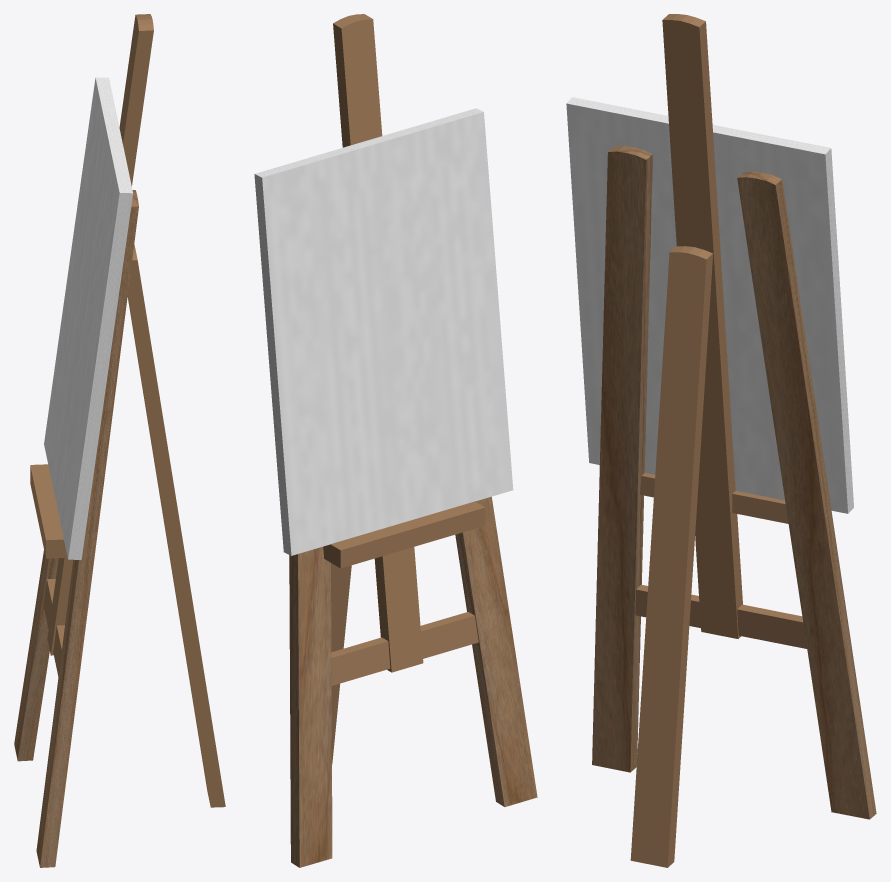
Rendered from pintura habi grande.fbx.
3 views of the same model, side by side, from view 1: azimuth 30°, elevation 25°; view 2: azimuth 150°, elevation 25°; view 3: azimuth 270°, elevation 25° (orthographic). The views are drawn at different scales.
Visible parts, largest first — view 1: Cubo.001, Cubo.002; view 2: Cubo.002, Cubo.001; view 3: Cubo.001, Cubo.002.
Boxes of the visible parts, <box> form: Cubo.001: <box>14,14,225,867</box>; Cubo.002: <box>44,77,132,559</box>; Cubo.002: <box>254,108,513,555</box>; Cubo.001: <box>289,14,537,867</box>; Cubo.001: <box>592,14,876,867</box>; Cubo.002: <box>566,97,853,513</box>.
Bounding box in the file's own units: 210 × 731 × 252.
